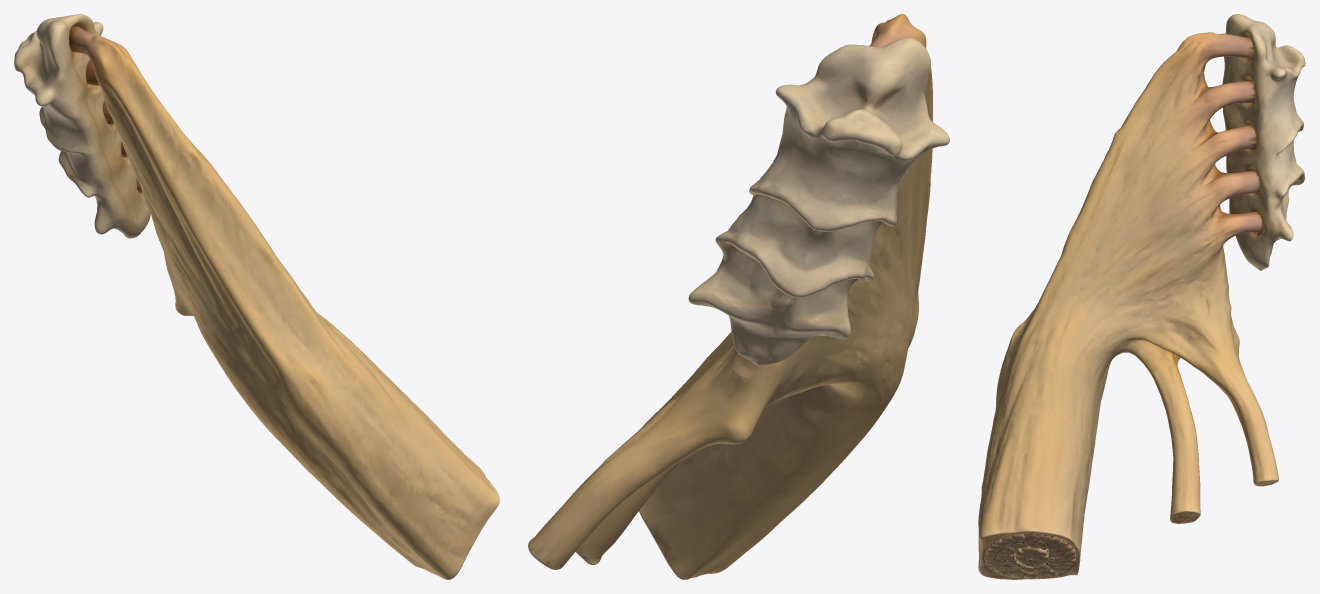
The model's file is lumbosacral-plexus.glb.
3 renders of one model, left to right at view 1: azimuth 30°, elevation 25°; view 2: azimuth 150°, elevation 25°; view 3: azimuth 270°, elevation 25°, orthographic. The views are drawn at different scales.
Parts seen in each view (by area): view 1: tripo_node_139adfe6-795e-49f2-9fd6-57ab79ec30be; view 2: tripo_node_139adfe6-795e-49f2-9fd6-57ab79ec30be; view 3: tripo_node_139adfe6-795e-49f2-9fd6-57ab79ec30be.
Boxes of the visible parts, x1=… form: tripo_node_139adfe6-795e-49f2-9fd6-57ab79ec30be: x1=14, y1=14, x2=499, y2=579; tripo_node_139adfe6-795e-49f2-9fd6-57ab79ec30be: x1=528, y1=14, x2=949, y2=579; tripo_node_139adfe6-795e-49f2-9fd6-57ab79ec30be: x1=978, y1=14, x2=1305, y2=579.
Size of the model in its own units: 0.6652 by 0.9999 by 0.6463.
Materials: 1 (1 with a texture image).
